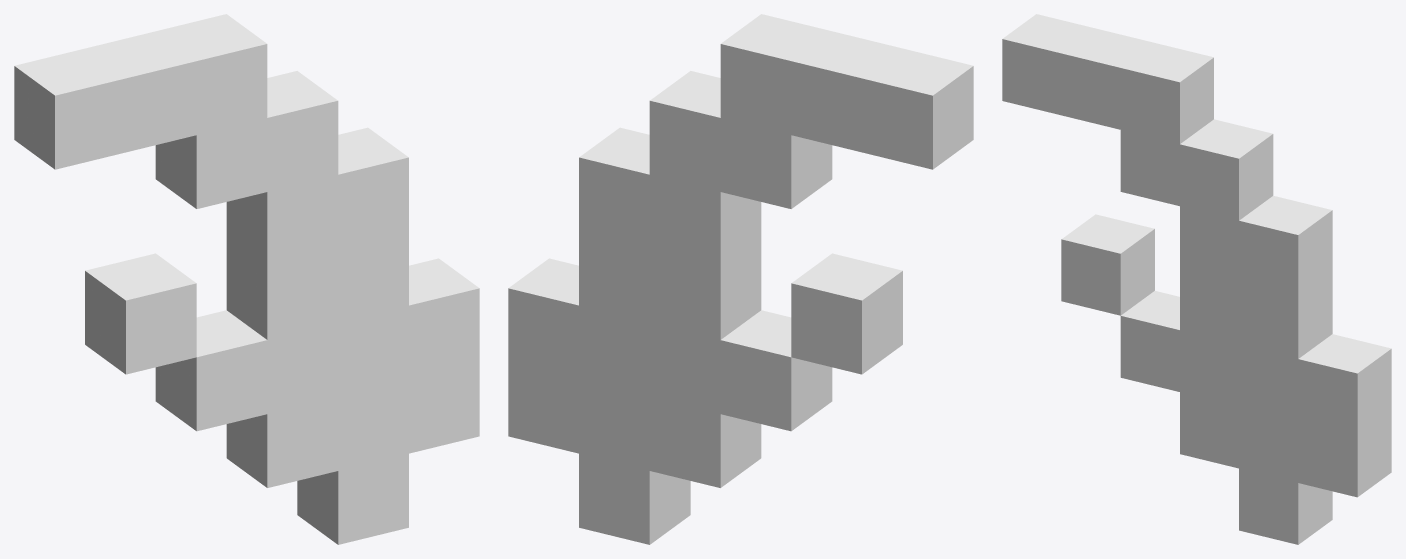
The model's file is Gauntlet-White.vox.obj.
3 views of the same model, side by side, from view 1: azimuth 30°, elevation 25°; view 2: azimuth 150°, elevation 25°; view 3: azimuth 330°, elevation 25° (orthographic). The views are drawn at different scales.
Bounding box in the file's own units: 0.6 × 0.7 × 0.1.
Materials: 1 (1 with a texture image).
